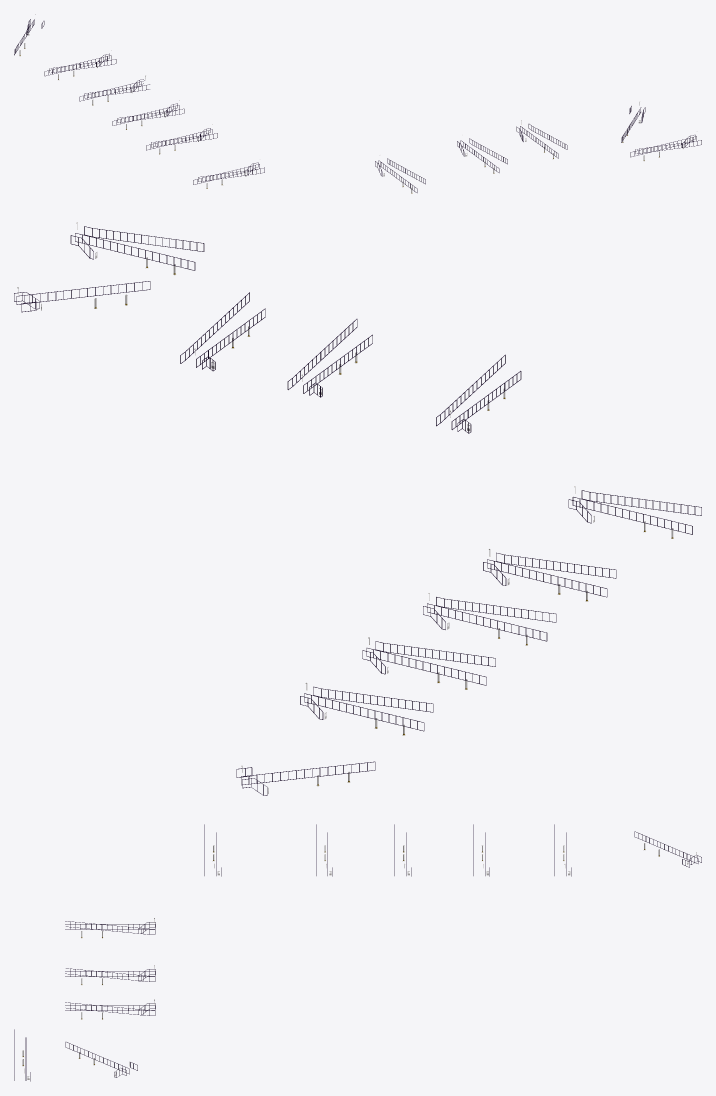
The model's file is Corridor_details.fbx.
3 views of the same model, one above another, from view 1: azimuth 30°, elevation 25°; view 2: azimuth 150°, elevation 25°; view 3: azimuth 270°, elevation 25° (orthographic). The views are drawn at different scales.
Parts seen in each view (by area): view 1: Airport:Corridor_details; view 2: Airport:Corridor_details; view 3: Airport:Corridor_details.
Boxes of the visible parts, x1,y1,x2,y2 form: Airport:Corridor_details: [14, 14, 701, 193]; Airport:Corridor_details: [14, 222, 701, 795]; Airport:Corridor_details: [14, 824, 701, 1081].
Size of the model in its own units: 32815 by 1291 by 39066.
1 material, 1 textured.
